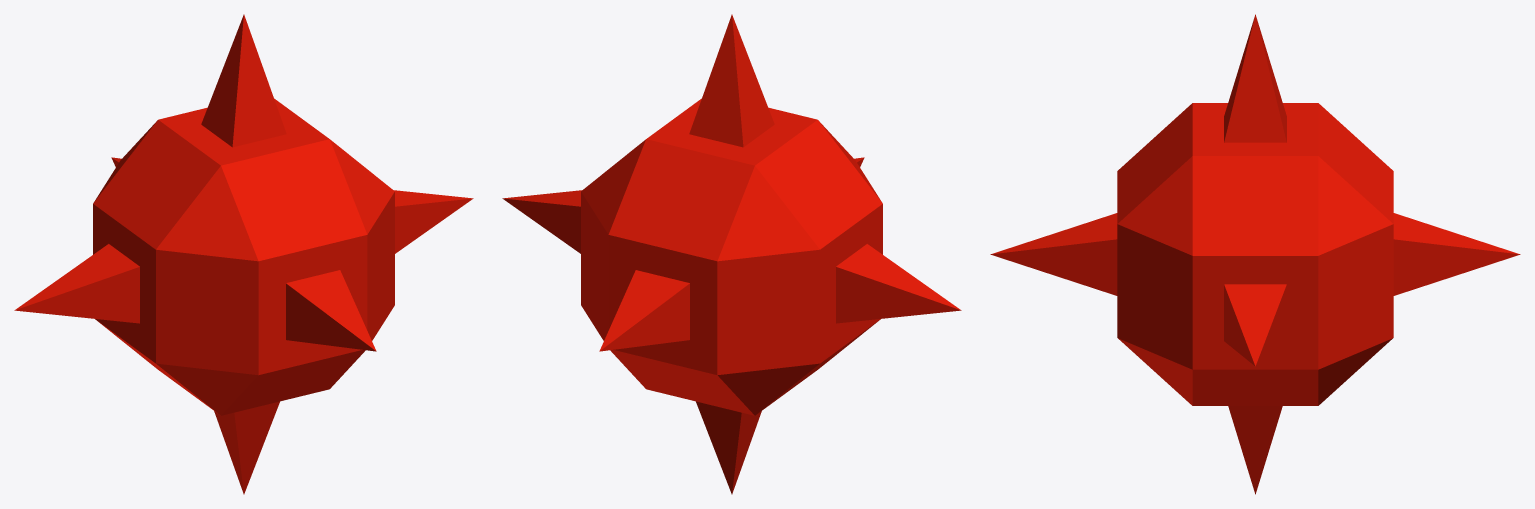
File: Spike.glb
3 renders of one model, left to right at view 1: azimuth 30°, elevation 25°; view 2: azimuth 150°, elevation 25°; view 3: azimuth 270°, elevation 25°, orthographic.
Parts seen in each view (by area): view 1: Cube; view 2: Cube; view 3: Cube.
Boxes of the visible parts, x1,y1,x2,y2 form: Cube: [14, 14, 473, 494]; Cube: [502, 14, 961, 494]; Cube: [990, 14, 1520, 494].
Size of the model in its own units: 1 by 1 by 1.
